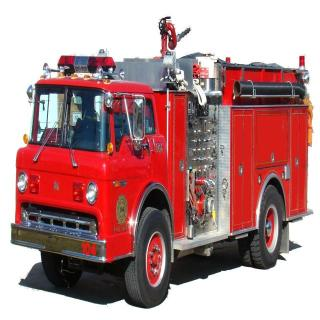Fire_truck: (10, 15, 314, 309)
